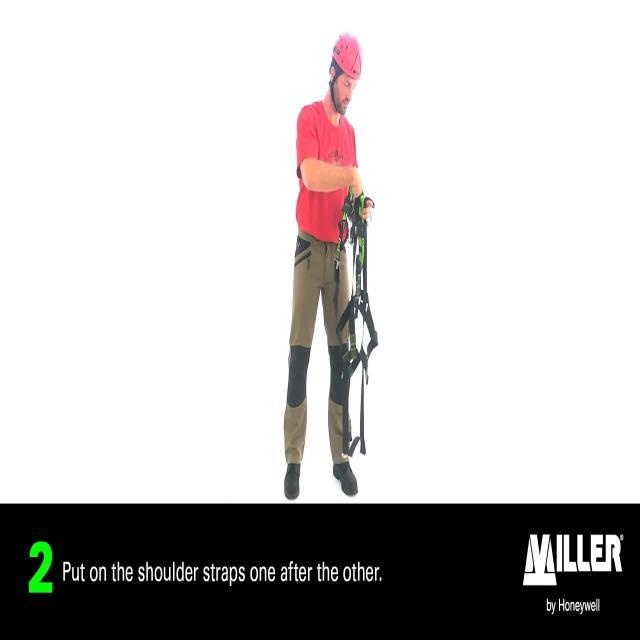Arnes_seguridad: (328, 183, 377, 462)
